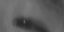RightEyeFatigue: (6, 7, 57, 32)
